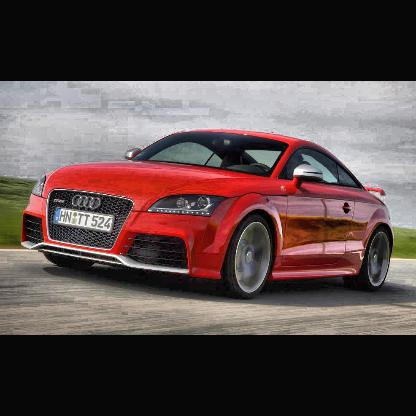Audi TT RS Coupe 2012: (22, 127, 400, 300)
